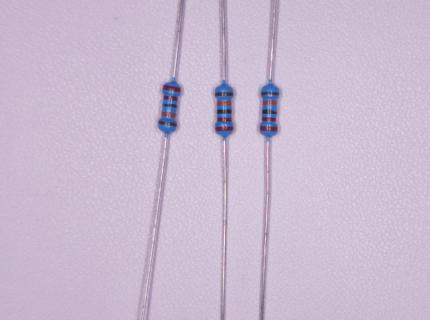Black band: (217, 109, 232, 114), (262, 109, 277, 114), (163, 103, 177, 108)
Brown band: (159, 120, 177, 126), (215, 92, 234, 96), (261, 92, 279, 96)
Orange band: (161, 112, 176, 118), (263, 101, 277, 106), (217, 101, 231, 106)
Red band: (162, 85, 181, 92), (260, 126, 278, 132), (215, 127, 234, 132), (163, 95, 178, 101), (217, 117, 231, 122), (262, 117, 276, 121)
